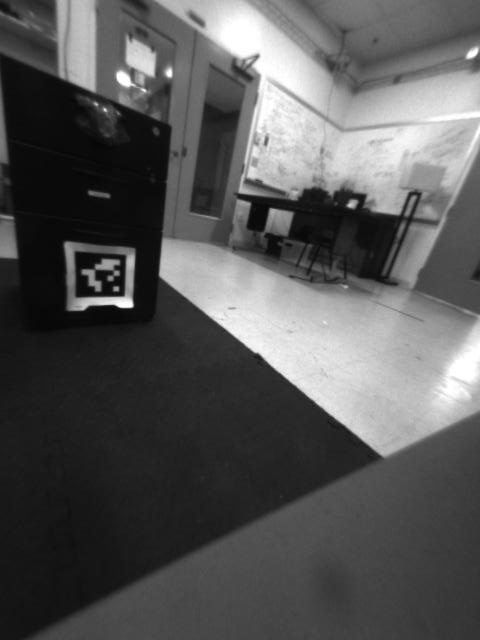drawer: (62, 88, 126, 149)
